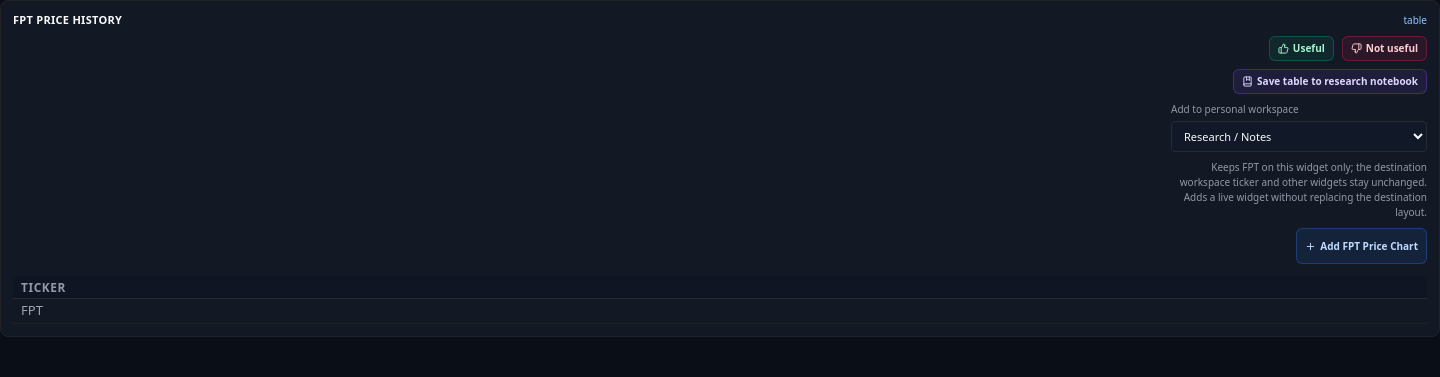
artifact research notebook › does not claim a save when notebook storage denies writes
Click the button "Save table to research notebook": {"x": 1330, "y": 82} [1233,69,1427,94]
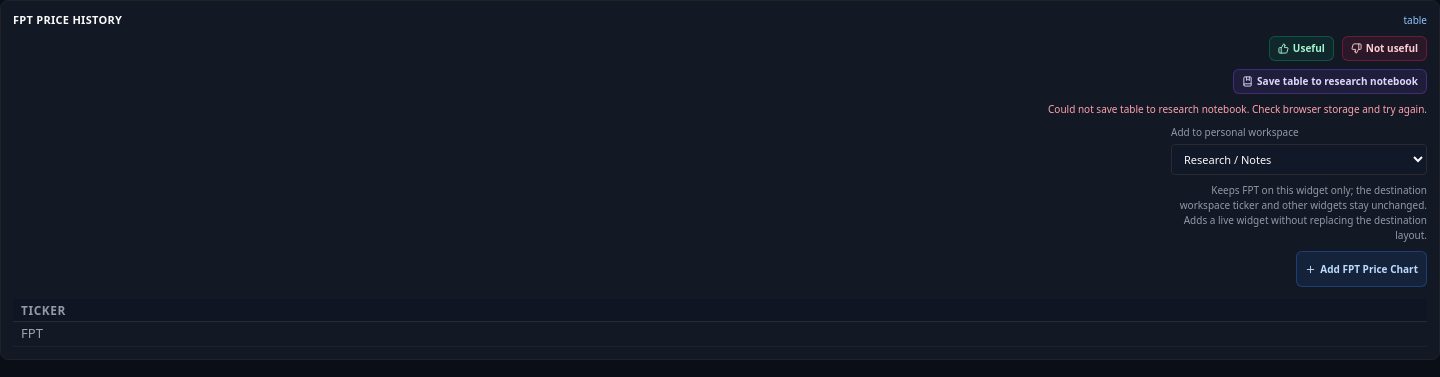
Expected: the message shows "Could not save table to research notebook", [1048,102,1427,116]
